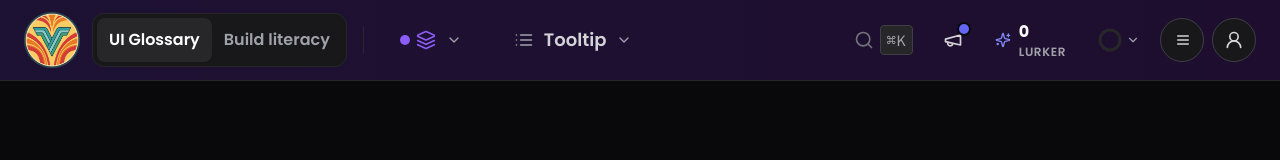
Test case: search panel design QA (#106 to #111, #118) › #118 and #107: both inputs are named and both close buttons have a name
Click the button named "Search (⌘K)": (883, 40) [844,17,923,63]
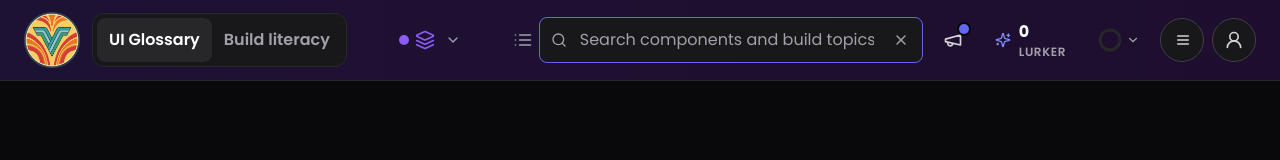
expect the number of fields labelled "Search components and build topics" is 2: met
